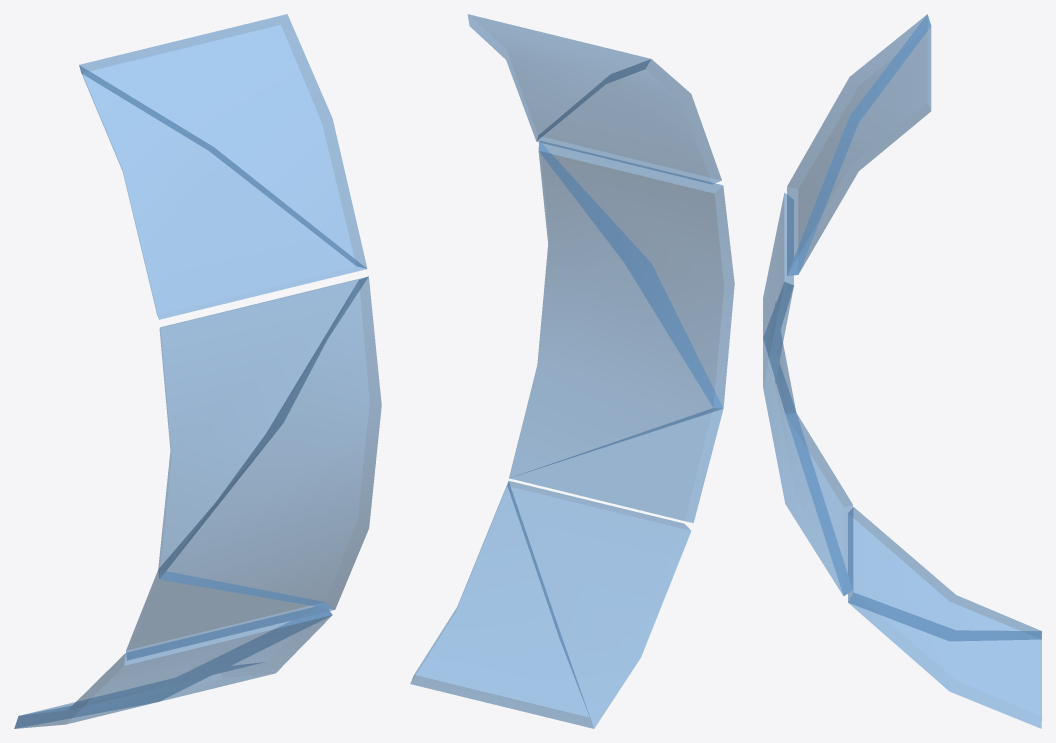
File: Glass_Broken.fbx
3 views of the same model, side by side, from view 1: azimuth 30°, elevation 25°; view 2: azimuth 150°, elevation 25°; view 3: azimuth 270°, elevation 25° (orthographic). The views are drawn at different scales.
Visible parts, largest first — view 1: Cube.004, Cube, Cube.002, Cube.003, Cube.006, Cube.005, Cube.007; view 2: Cube.004, Cube.003, Cube.006, Cube.007, Cube.002, Cube.005, Cube; view 3: Cube.007, Cube.006, Cube, Cube.002, Cube.004, Cube.005, Cube.003.
Boxes of the visible parts, x1,y1,x2,y2 form: Cube.004: [158, 276, 381, 609]; Cube: [79, 14, 367, 268]; Cube.002: [79, 65, 366, 319]; Cube.003: [158, 277, 367, 578]; Cube.006: [14, 607, 332, 728]; Cube.005: [126, 570, 334, 660]; Cube.007: [14, 611, 331, 728]; Cube.004: [509, 142, 722, 477]; Cube.003: [538, 141, 734, 408]; Cube.006: [508, 481, 690, 728]; Cube.007: [410, 481, 593, 728]; Cube.002: [537, 59, 721, 184]; Cube.005: [509, 408, 723, 522]; Cube: [467, 14, 650, 141]; Cube.007: [848, 592, 1041, 728]; Cube.006: [848, 507, 1041, 640]; Cube: [787, 14, 931, 275]; Cube.002: [787, 14, 930, 275]; Cube.004: [763, 282, 852, 595]; Cube.005: [786, 413, 852, 595]; Cube.003: [763, 192, 795, 413].
Size of the model in its own units: 2.93 by 9.5 by 3.84.
